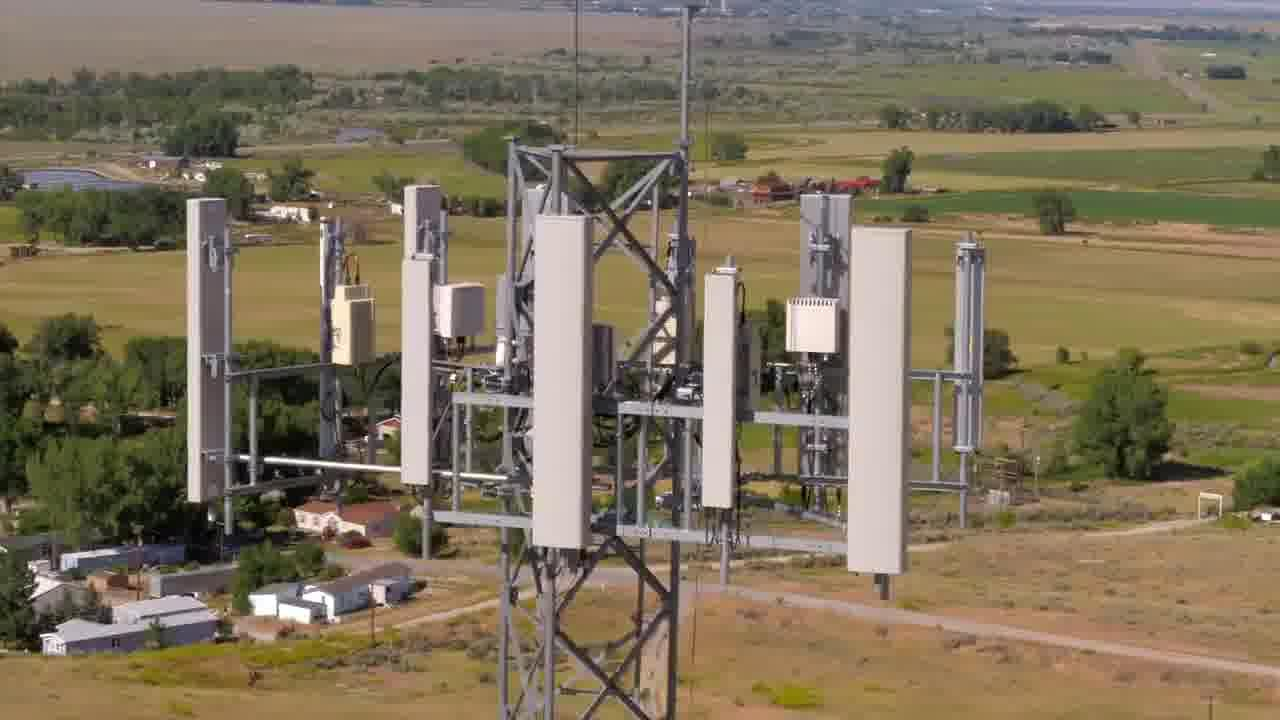antenna: (846, 219, 933, 577), (537, 193, 611, 566), (187, 180, 242, 502), (402, 171, 448, 494), (957, 199, 1009, 479), (702, 263, 757, 512), (795, 181, 850, 420)
